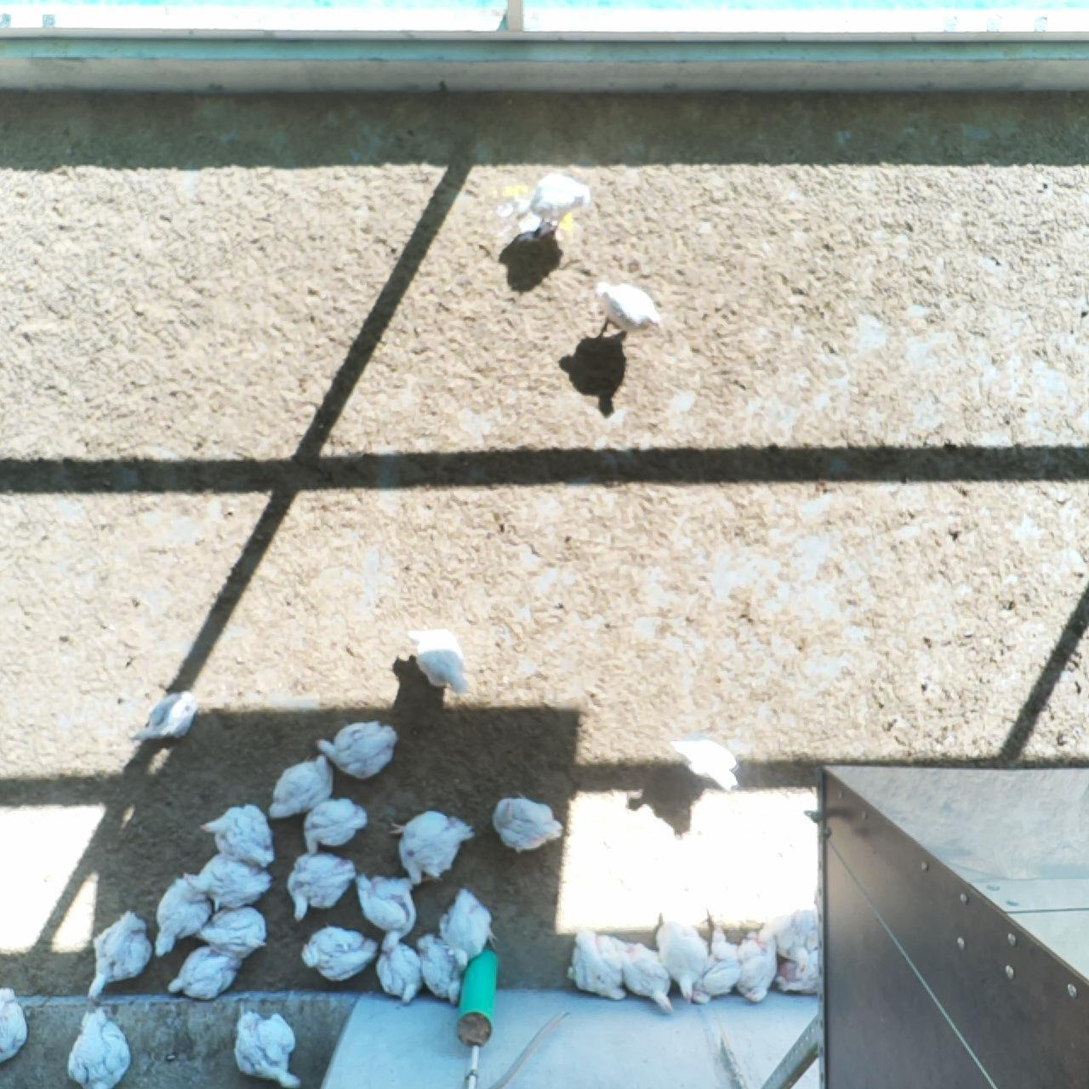chicken: (390, 811, 475, 887), (85, 912, 153, 1006), (232, 1011, 304, 1089), (66, 1008, 132, 1089), (200, 804, 277, 870), (315, 721, 397, 781), (653, 915, 710, 1001), (355, 875, 419, 950), (149, 876, 211, 953), (299, 925, 380, 983), (567, 929, 627, 1006), (613, 940, 674, 1015), (190, 853, 274, 906), (438, 887, 498, 959), (408, 627, 470, 696), (595, 282, 662, 345), (288, 852, 353, 916), (197, 906, 268, 963), (271, 755, 334, 819), (670, 736, 738, 794), (166, 947, 240, 1000), (491, 797, 563, 851), (532, 170, 590, 234), (417, 933, 465, 1006), (305, 798, 368, 852), (130, 692, 196, 743), (736, 927, 777, 1006), (376, 933, 419, 1006), (699, 926, 742, 997), (773, 910, 818, 974), (767, 953, 821, 995), (1, 989, 27, 1066)
